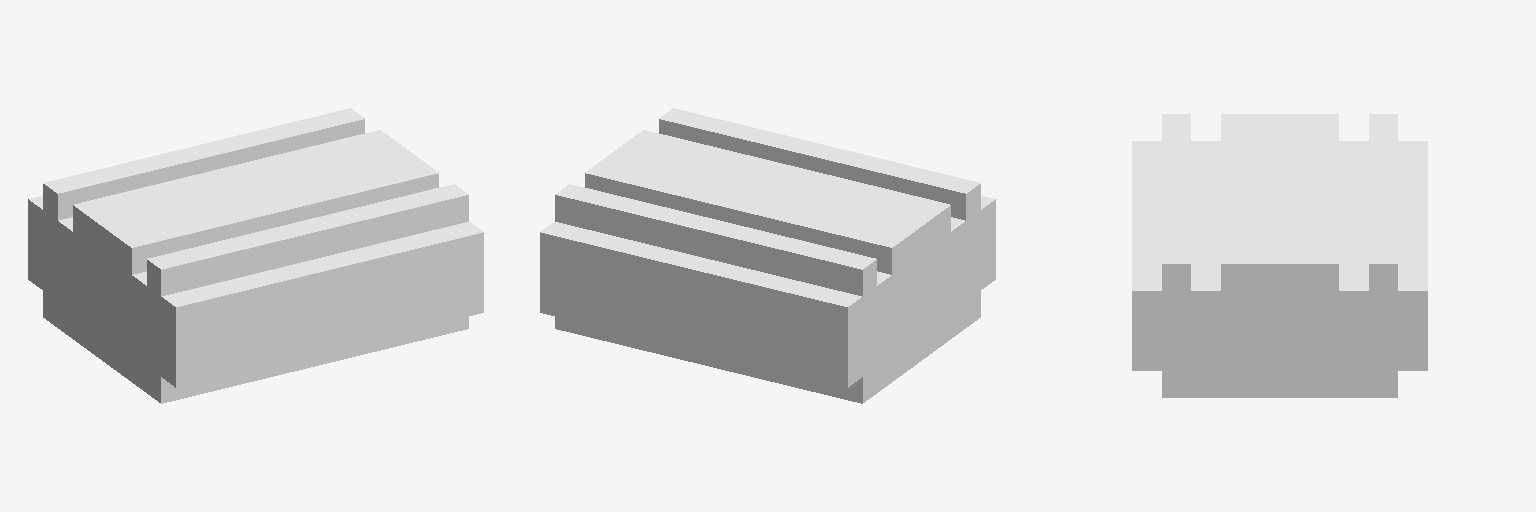
The model's file is hotdogWithBun.obj.
The picture shows the model from 3 angles: view 1: azimuth 30°, elevation 25°; view 2: azimuth 150°, elevation 25°; view 3: azimuth 270°, elevation 25°; orthographic projection.
Parts seen in each view (by area): view 1: hotdogWithBun; view 2: hotdogWithBun; view 3: hotdogWithBun.
Boxes of the visible parts, <box> form: hotdogWithBun: <box>28,108,483,403</box>; hotdogWithBun: <box>540,108,995,403</box>; hotdogWithBun: <box>1132,114,1427,397</box>.
Size of the model in its own units: 12 by 5 by 10.